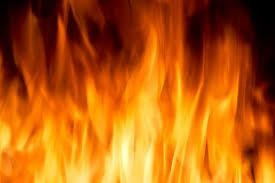fire: (23, 19, 272, 179)
